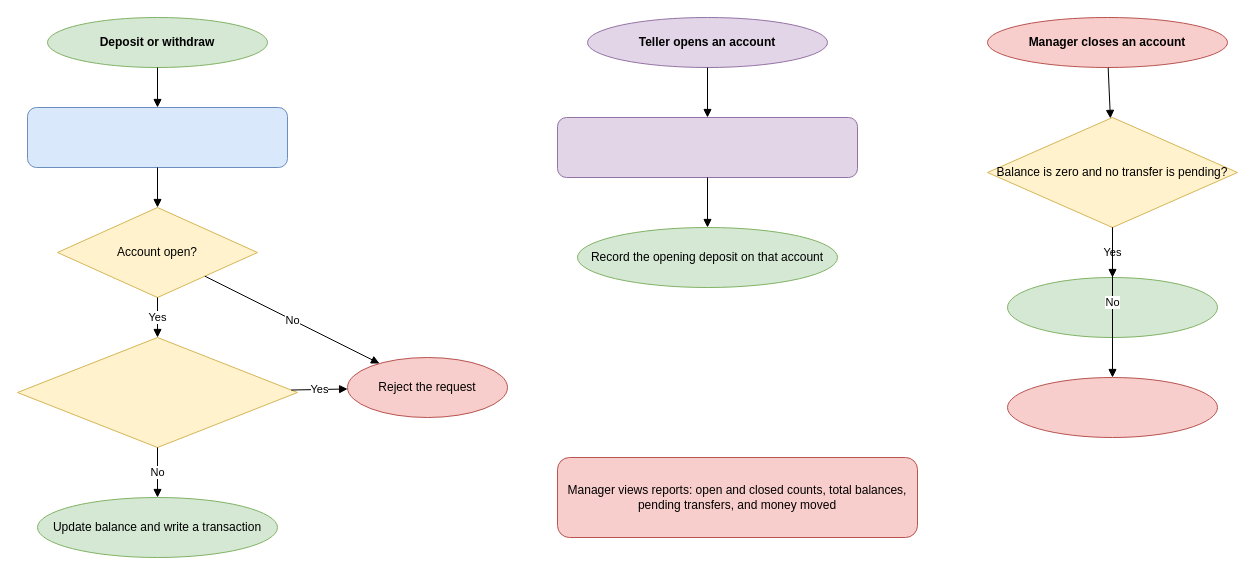
The diagram is 1255 pixels wide and 575 high, and some of its shapes have lost their labels. The shapes that lost their labels are listed below. From the top down, each one's box as (x1, y1, x2, y2) in pixels, then its label:
(26, 106, 288, 168): Customer, ATM, or teller enters an amount
(556, 116, 858, 178): Create customer login and a new checking account
(1006, 276, 1218, 338): Mark the account closed
(16, 336, 298, 448): Withdrawal and balance would go below zero?
(1006, 376, 1218, 438): Keep it open and explain why
